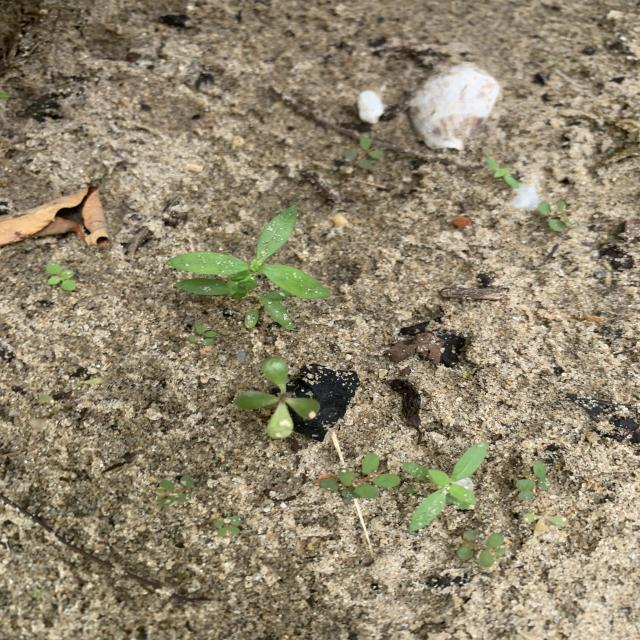weed: (168, 208, 329, 327), (404, 443, 487, 530), (237, 357, 318, 438), (319, 453, 398, 502), (450, 530, 506, 566), (516, 461, 550, 499), (343, 137, 383, 167), (157, 475, 193, 506), (537, 201, 571, 230), (485, 158, 518, 187), (46, 263, 75, 290), (523, 514, 566, 531), (189, 325, 215, 345), (214, 516, 240, 535)
